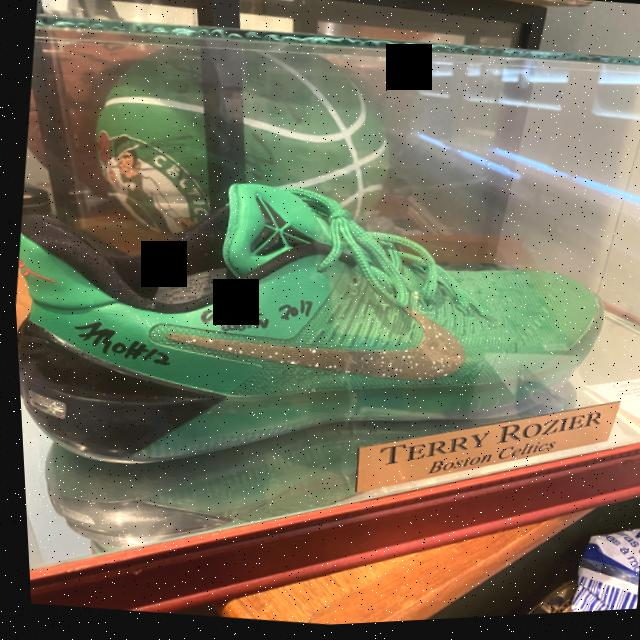shoes: (6, 110, 628, 535)
